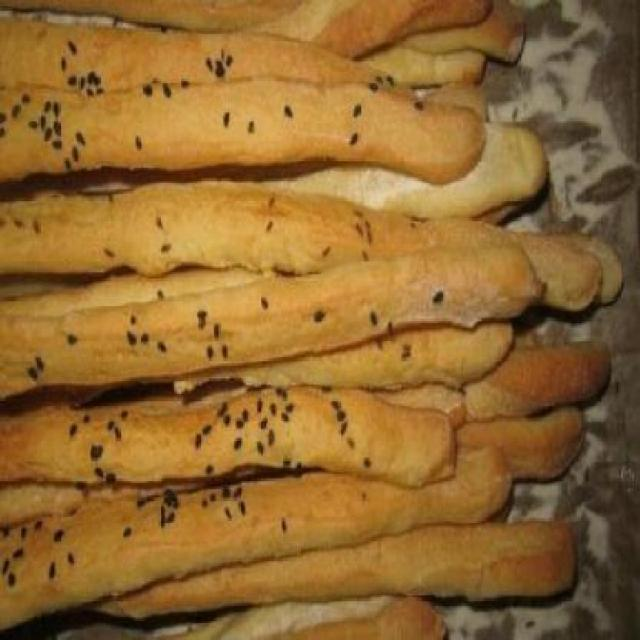Grissini: (12, 14, 610, 600)
